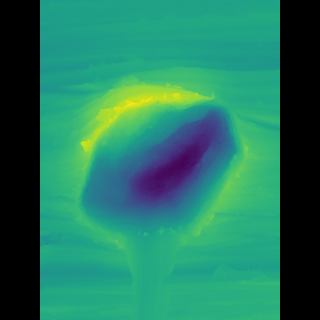Loch: (90, 71, 229, 249)
